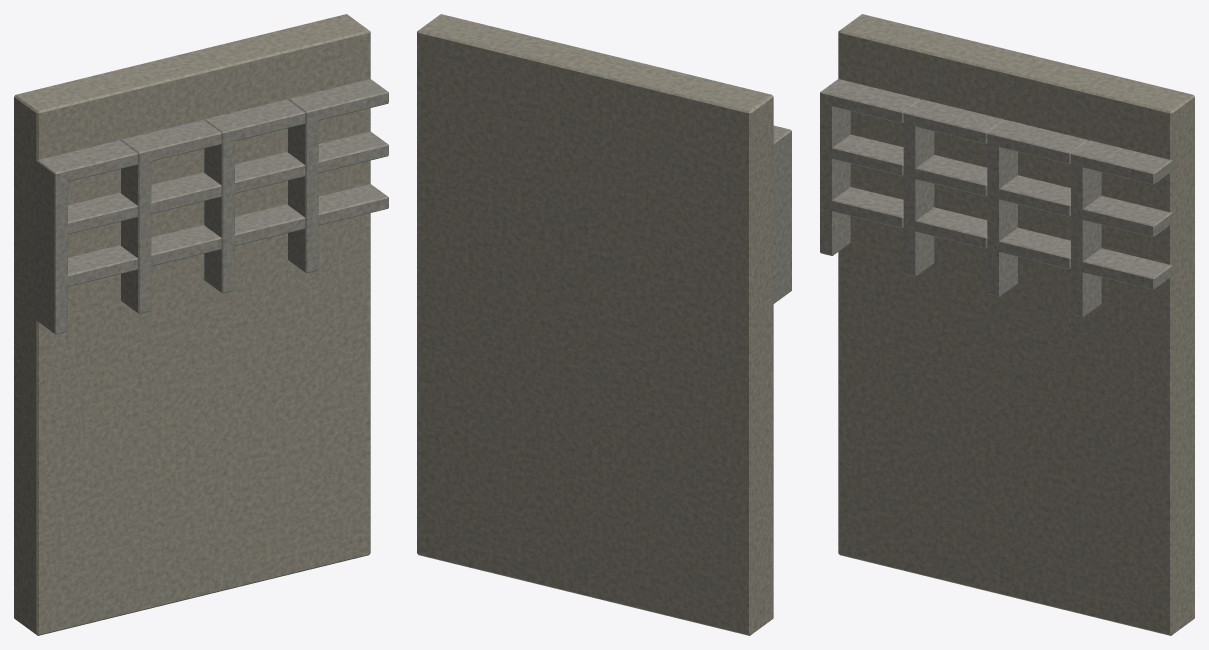
File: METL21RW_lod1.glb
3 views of the same model, side by side, from view 1: azimuth 30°, elevation 25°; view 2: azimuth 150°, elevation 25°; view 3: azimuth 330°, elevation 25° (orthographic).
Parts seen in each view (by area): view 1: METL21RW_LOD1; view 2: METL21RW_LOD1; view 3: METL21RW_LOD1.
Boxes of the visible parts, left/top/right/bottom form: METL21RW_LOD1: left=14, top=14, right=388, bottom=635; METL21RW_LOD1: left=417, top=14, right=791, bottom=635; METL21RW_LOD1: left=820, top=14, right=1194, bottom=635.
Bounding box in the file's own units: 2 × 3 × 0.435.
2 materials, 2 textured.
